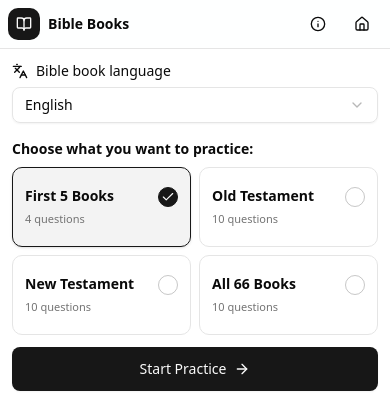
BibleBooksGame › switches Bible books to Russian without changing the English application locale
Press р in the dropdown named "Bible book language", box [12,87,378,123]
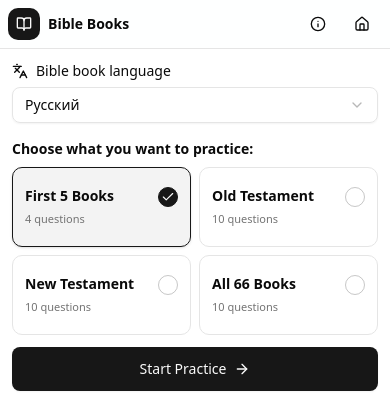
Result: the dropdown named "Bible book language" reads "Русский" at [12,87,378,123]
Click the button "Start Practice": (195, 369) [12,347,378,391]
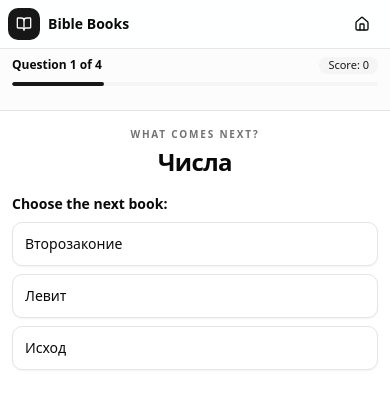
Result: the label "Bible book language" is gone
